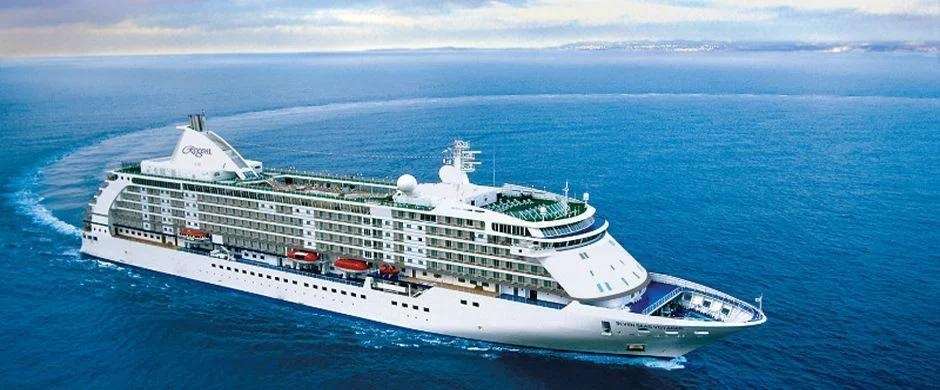youlun: (77, 115, 767, 355)
